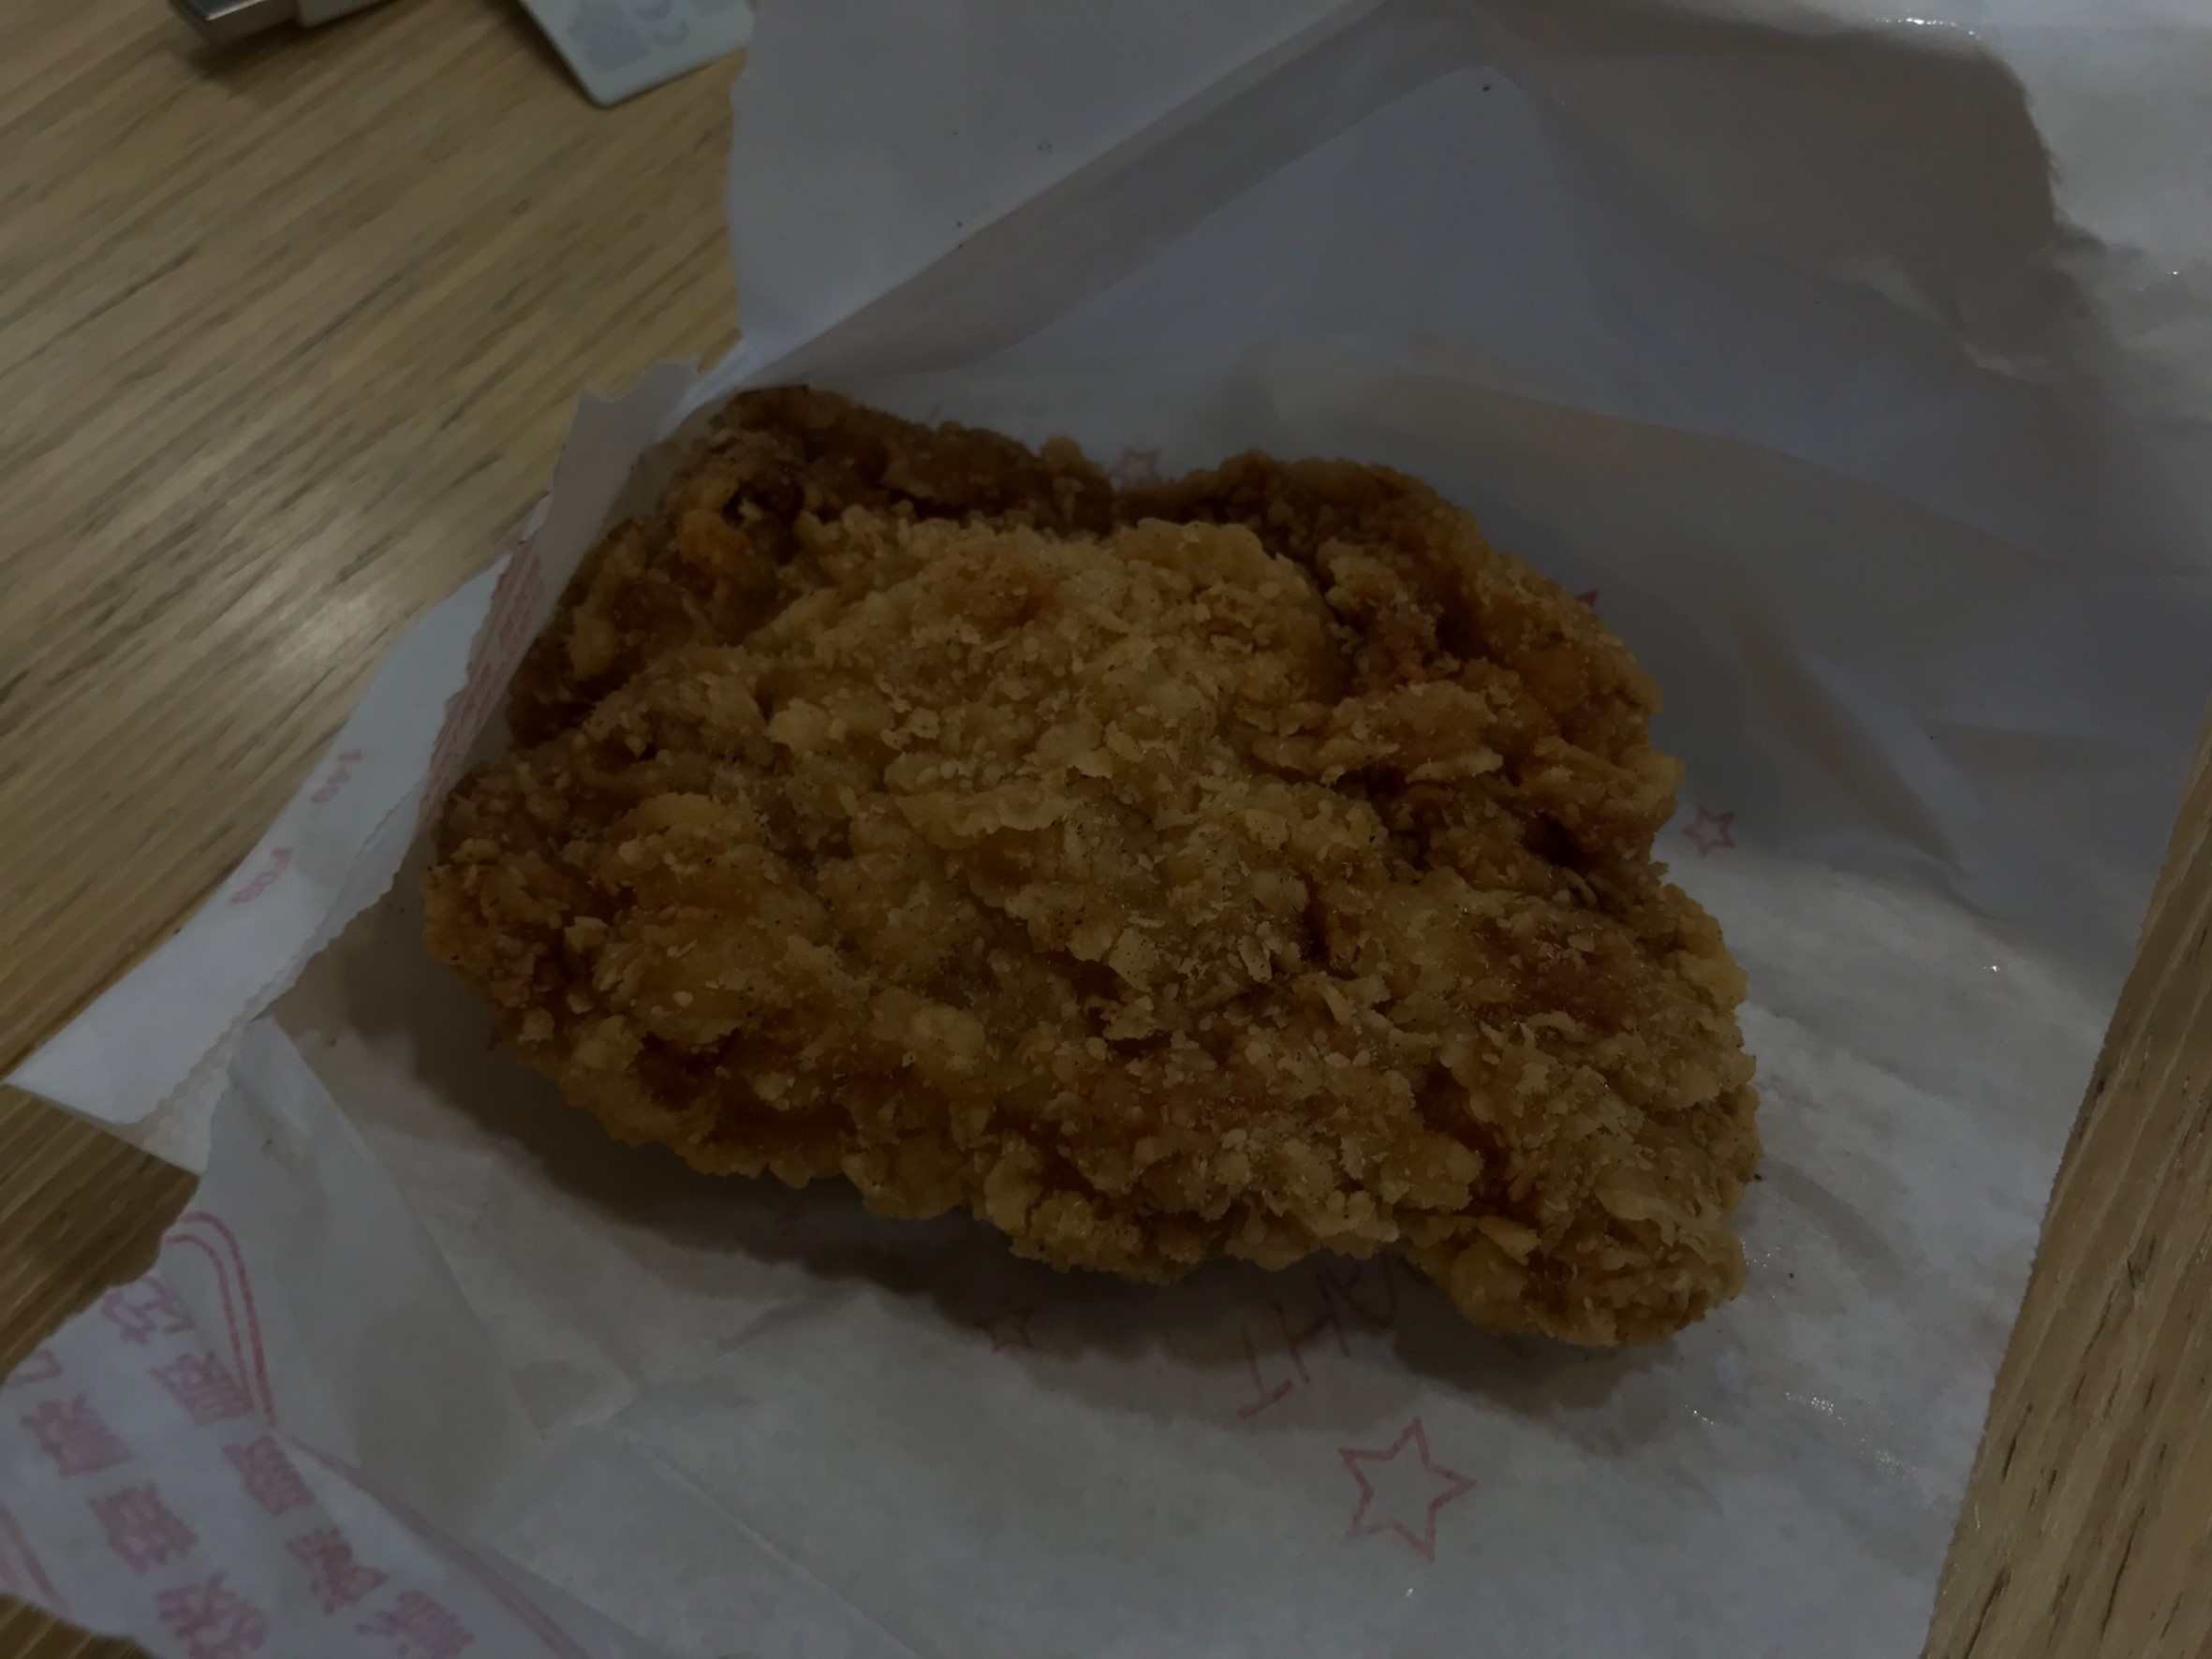fried_chicken: (392, 382, 1769, 1366)
